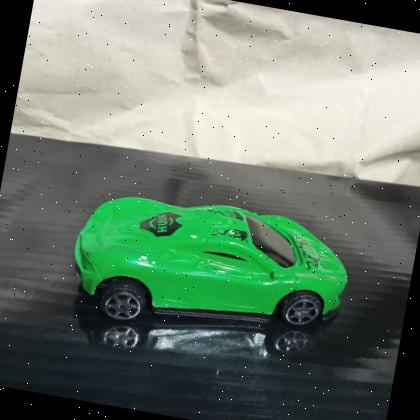Car: (74, 197, 348, 325)
